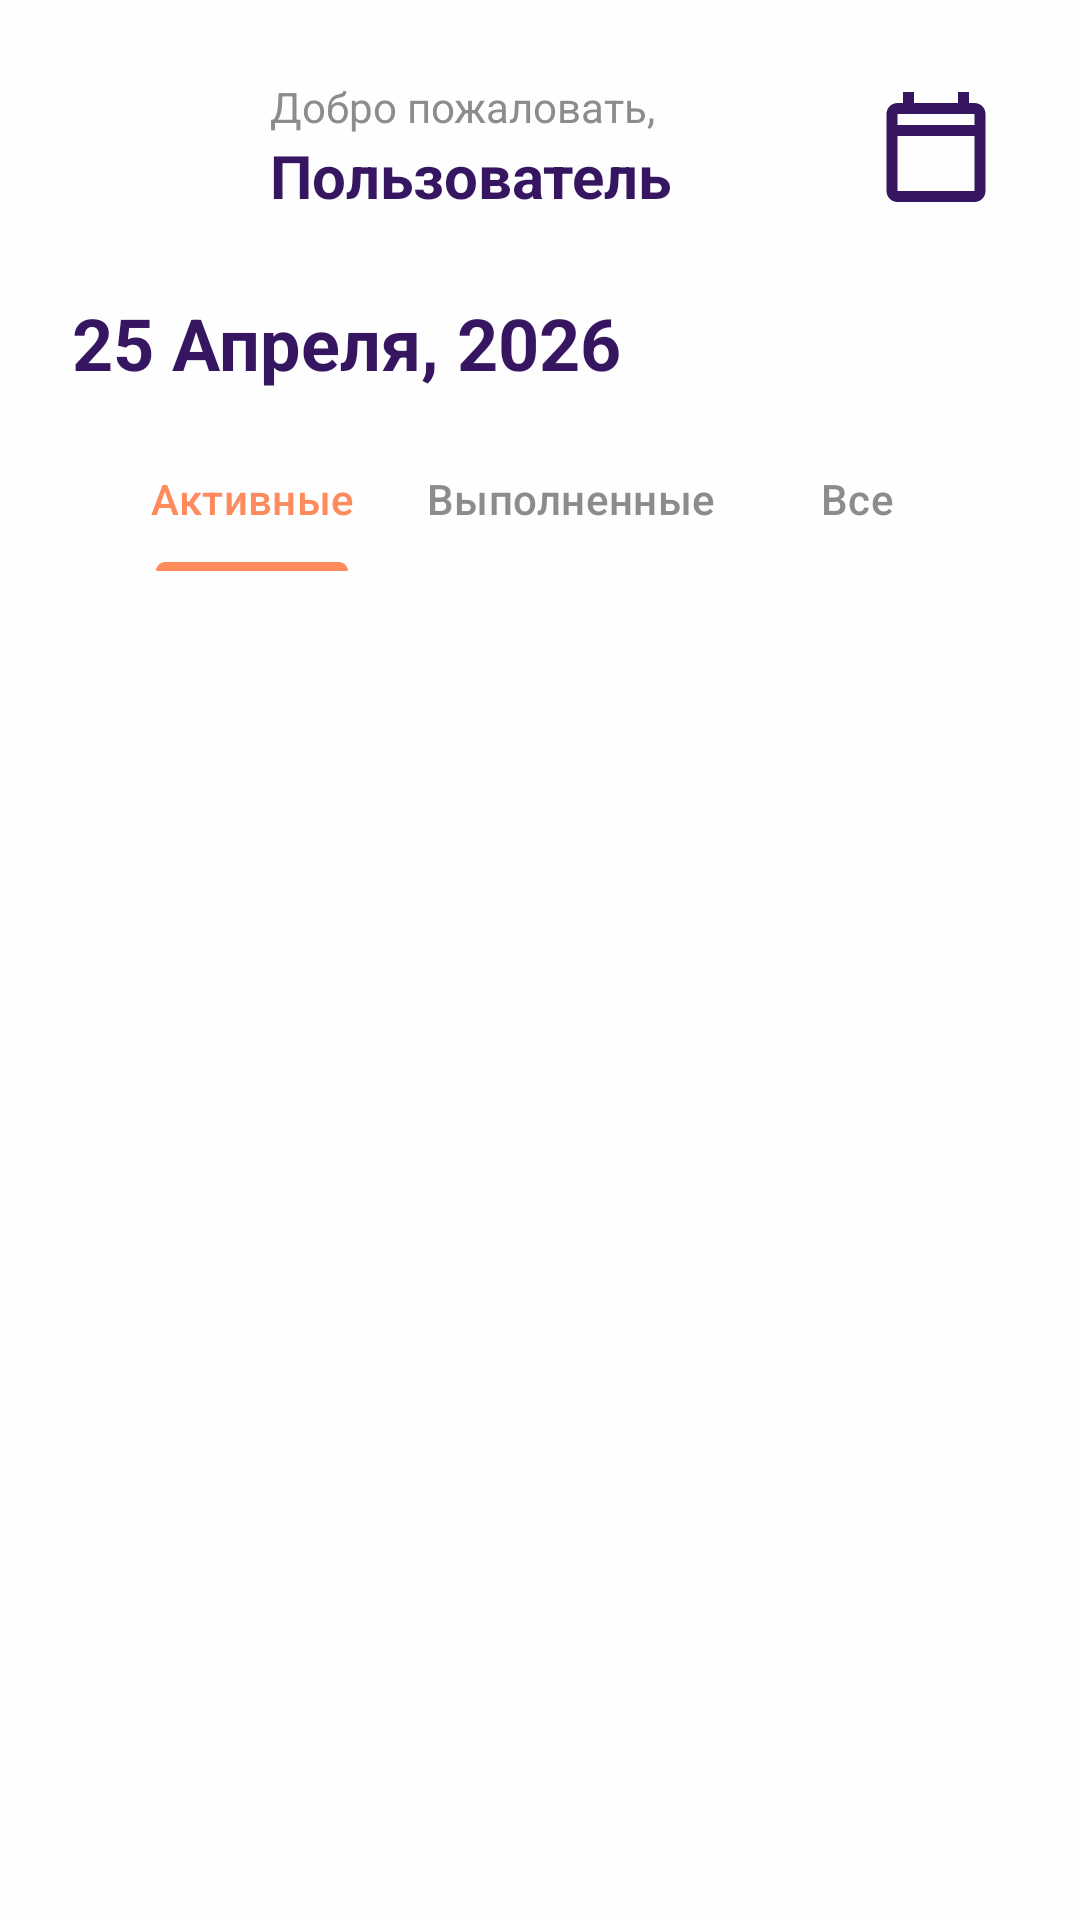

Locate icon controls on the screen. Image size 1080w x 1920h, boxes as detection(x1, y1, x2, y2).
Выбрать дату: detection(886, 92, 986, 202)
